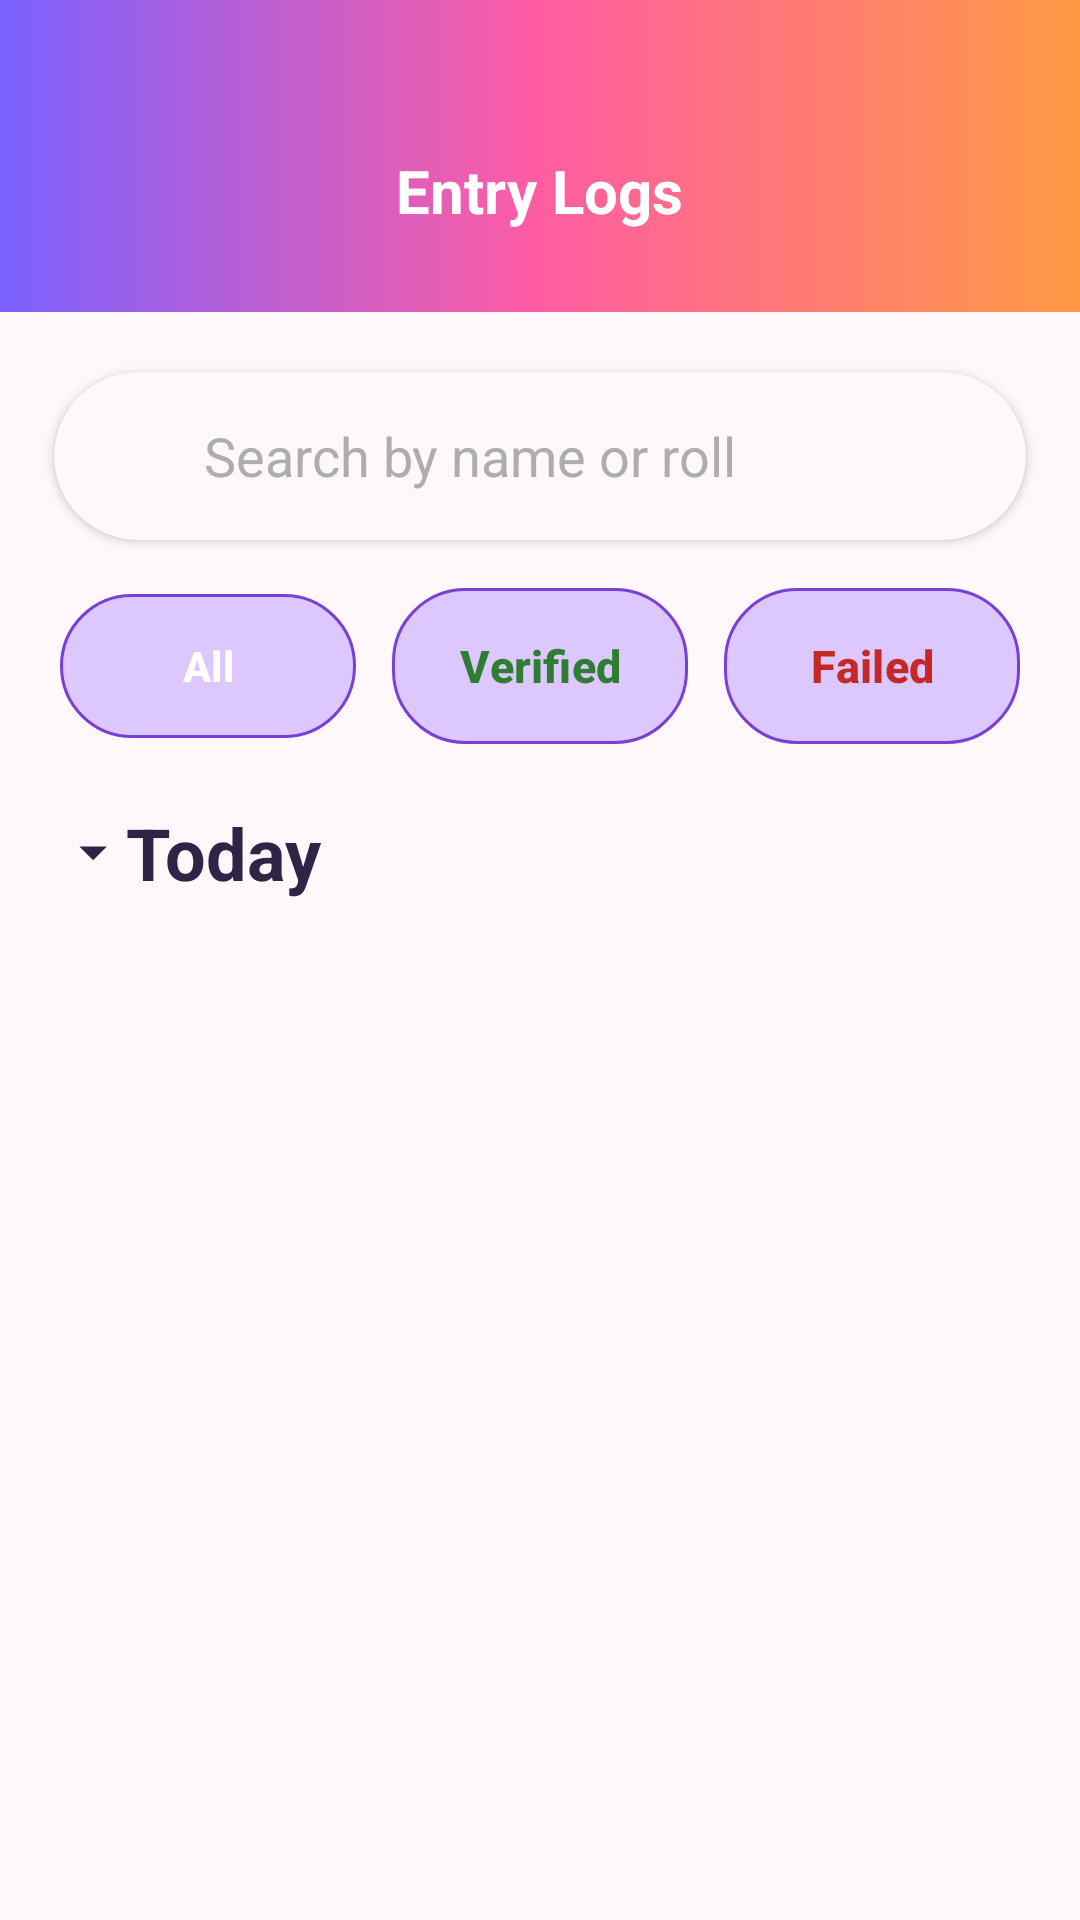

Icons on this 1080*1920 Android screen, each with its box as bbox(x1, y1, x2, y2):
keyboard arrow down: bbox(79, 846, 107, 860)
